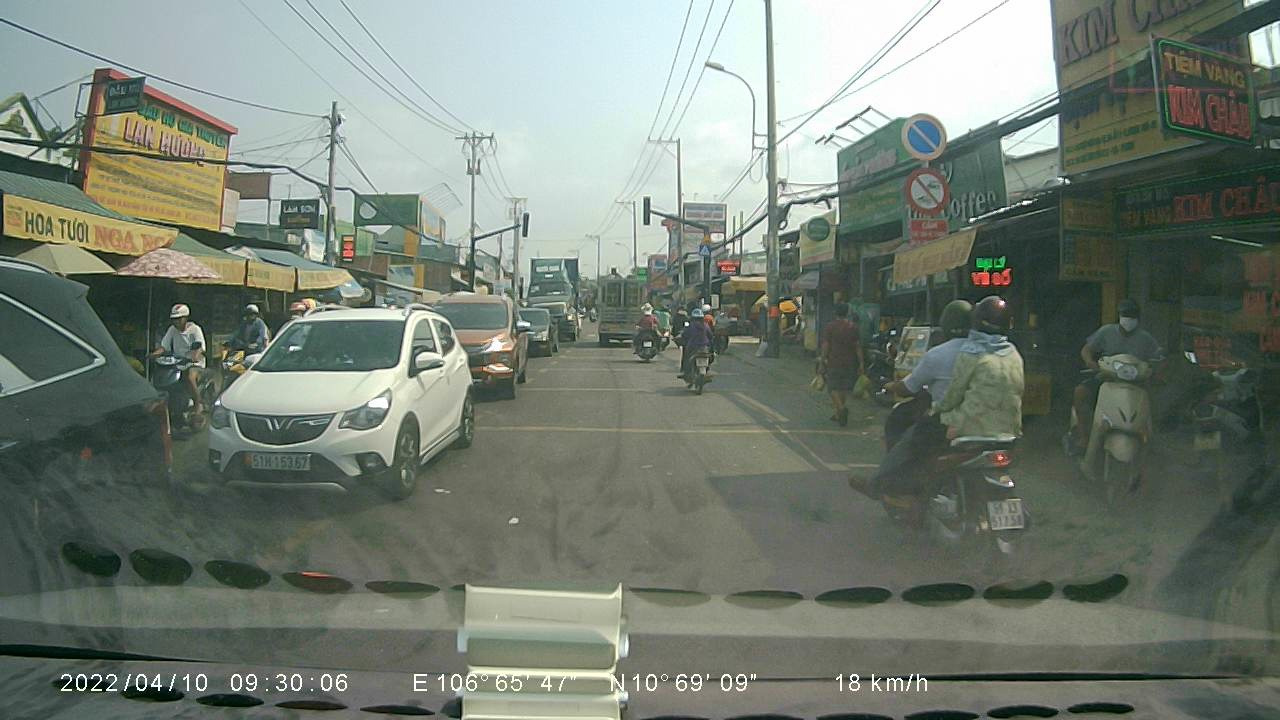Bien khac: (900, 165, 955, 214)
Cam do xe: (895, 109, 950, 165)
